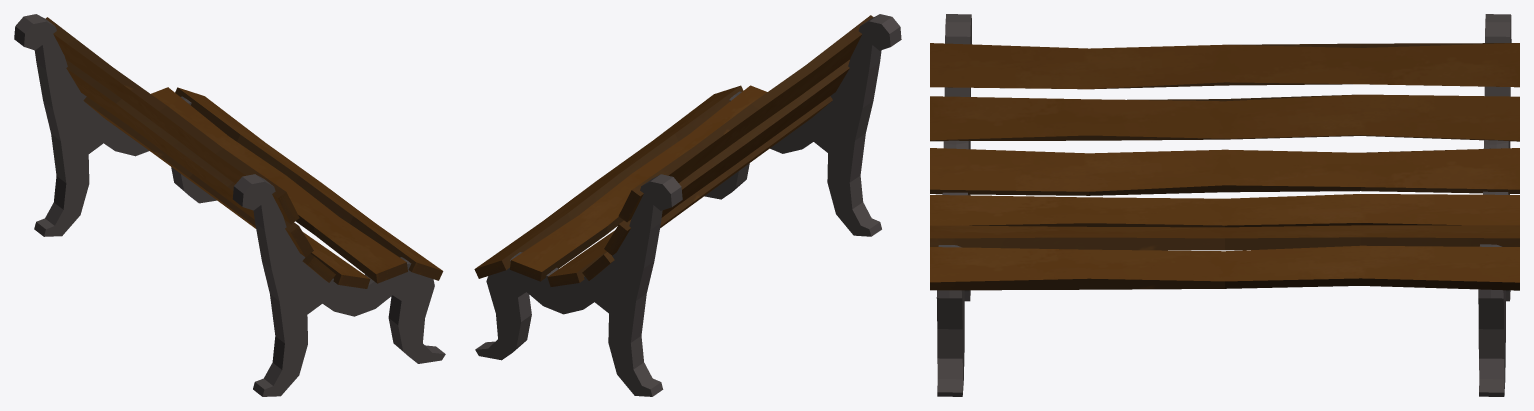
File: skameika.fbx
The picture shows the model from 3 angles, left to right: view 1: azimuth 30°, elevation 25°; view 2: azimuth 150°, elevation 25°; view 3: azimuth 270°, elevation 25°; orthographic projection. The views are drawn at different scales.
Visible parts, largest first — view 1: Cube.025; view 2: Cube.025; view 3: Cube.025.
Part boxes in pixels (<box>): Cube.025: <box>14,14,445,396</box>; Cube.025: <box>474,14,901,396</box>; Cube.025: <box>930,14,1519,396</box>.
Size of the model in its own units: 357 by 374 by 739.
